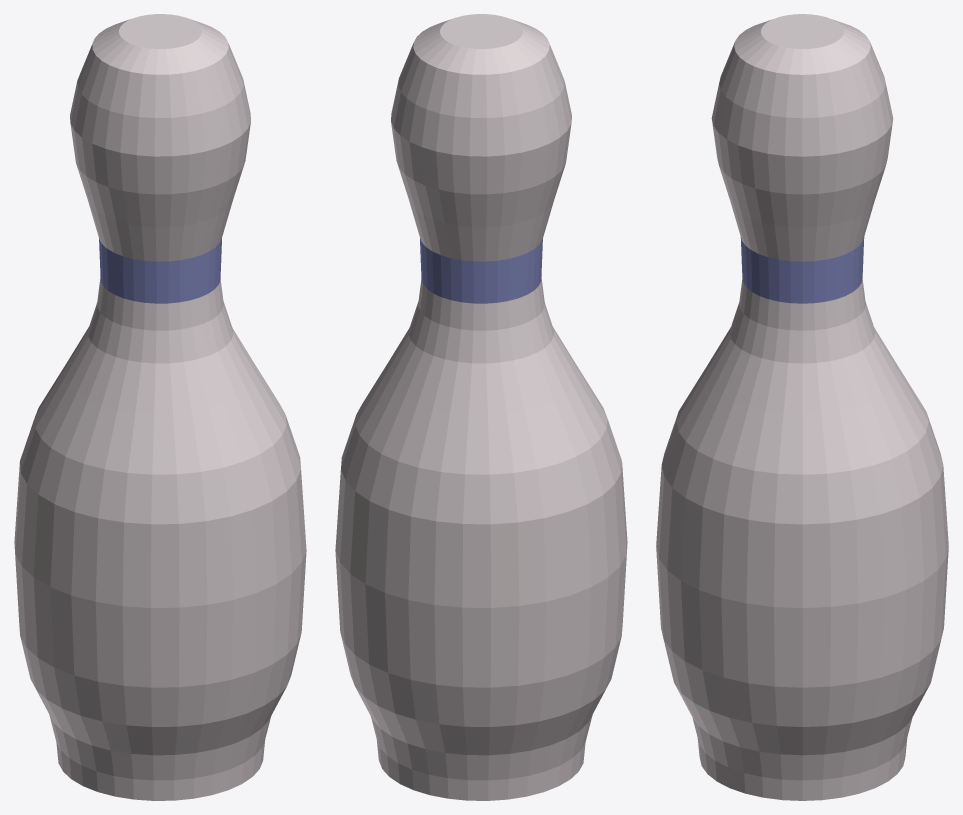
File: pin.gltf
3 views of the same model, side by side, from view 1: azimuth 30°, elevation 25°; view 2: azimuth 150°, elevation 25°; view 3: azimuth 270°, elevation 25° (orthographic).
Visible parts, largest first — view 1: Cylinder; view 2: Cylinder; view 3: Cylinder.
Boxes of the visible parts, x1,y1,x2,y2 form: Cylinder: (14,14,306,800); Cylinder: (335,14,627,800); Cylinder: (656,14,948,800).
Size of the model in its own units: 2.56 by 7.01 by 2.56.
